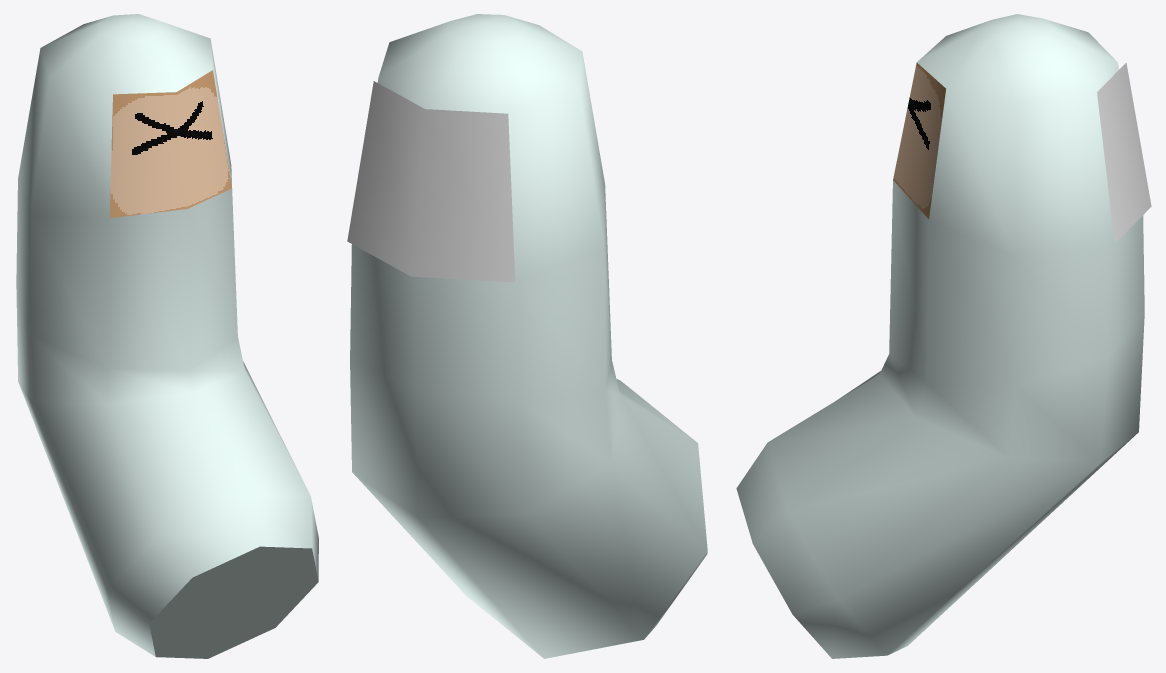
File: OTA_D_07.glb
3 renders of one model, left to right at view 1: azimuth 30°, elevation 25°; view 2: azimuth 150°, elevation 25°; view 3: azimuth 270°, elevation 25°, orthographic. The views are drawn at different scales.
Parts seen in each view (by area): view 1: FRAME_ROOT; view 2: FRAME_ROOT; view 3: FRAME_ROOT.
Boxes of the visible parts, left/top/right/bottom form: FRAME_ROOT: left=16, top=14, right=318, bottom=658; FRAME_ROOT: left=347, top=14, right=707, bottom=658; FRAME_ROOT: left=736, top=14, right=1151, bottom=658.
Bounding box in the file's own units: 1.28 × 3.35 × 2.01.
Materials: 3 (3 with a texture image).
